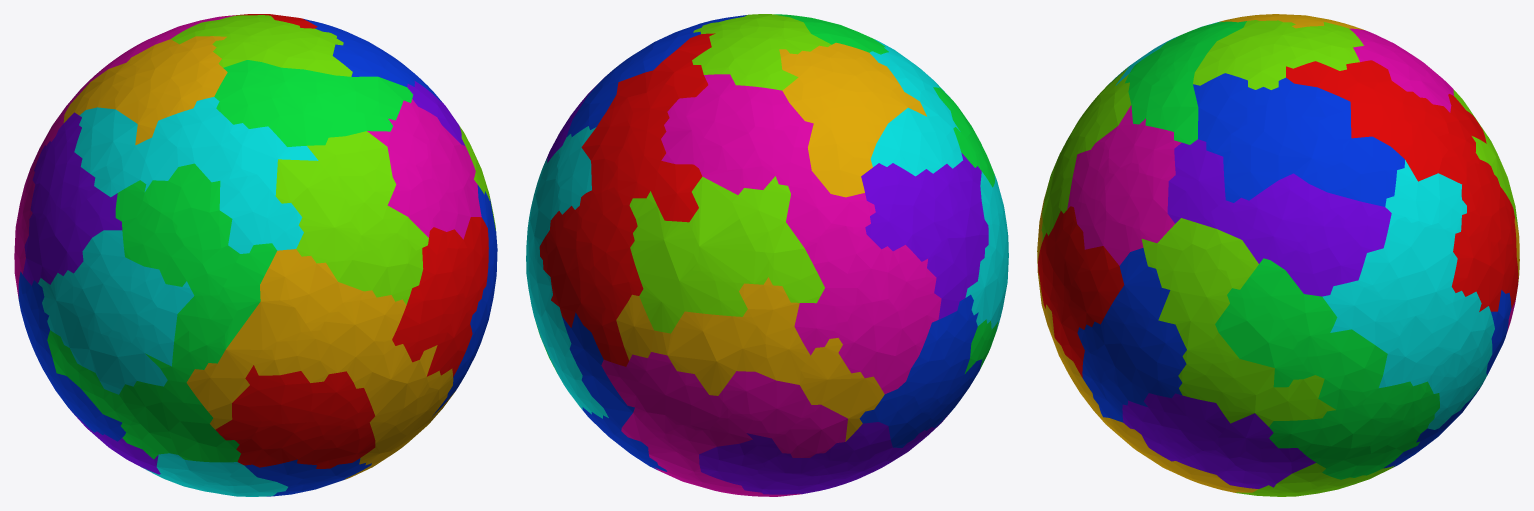
File: SphereH_L2.fbx
3 views of the same model, side by side, from view 1: azimuth 30°, elevation 25°; view 2: azimuth 150°, elevation 25°; view 3: azimuth 270°, elevation 25° (orthographic).
Size of the model in its own units: 2 by 2 by 2.
